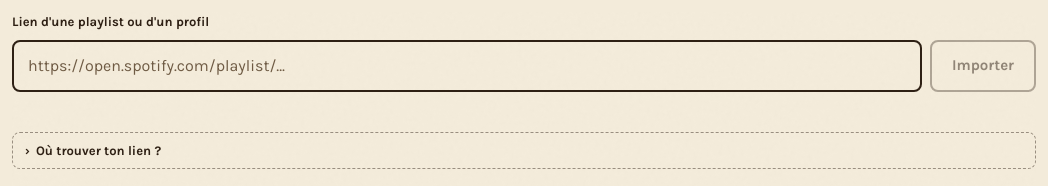
Test: ProfileImportBlock › erreur YouTube du serveur (playlist privee) : son message, tel quel
Type "https://www.youtube.com/playlist?list=PLprive" into the field labelled "Lien d'une playlist ou d'un profil" at (467, 66), box [12,40,922,92]
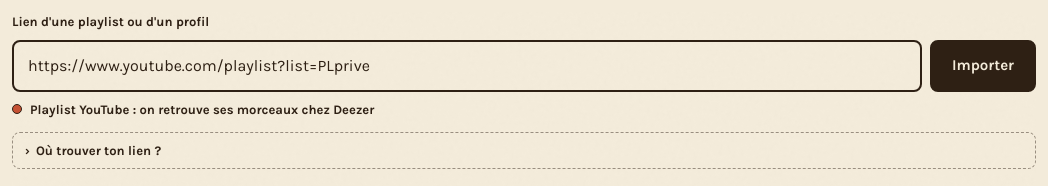
Click the button "Importer" at (983, 66), box [930,40,1036,92]
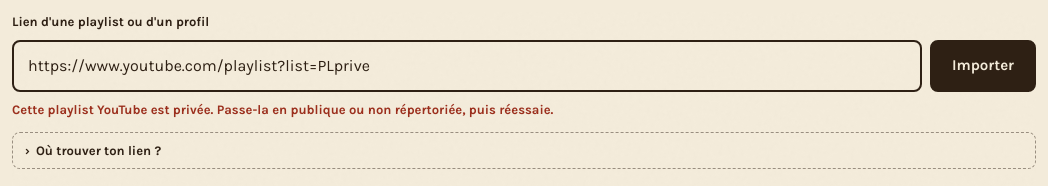
Expected: the message shows "playlist YouTube est privée", [12,102,553,116]
